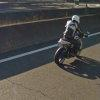Motorcycle: (38, 16, 92, 73)
